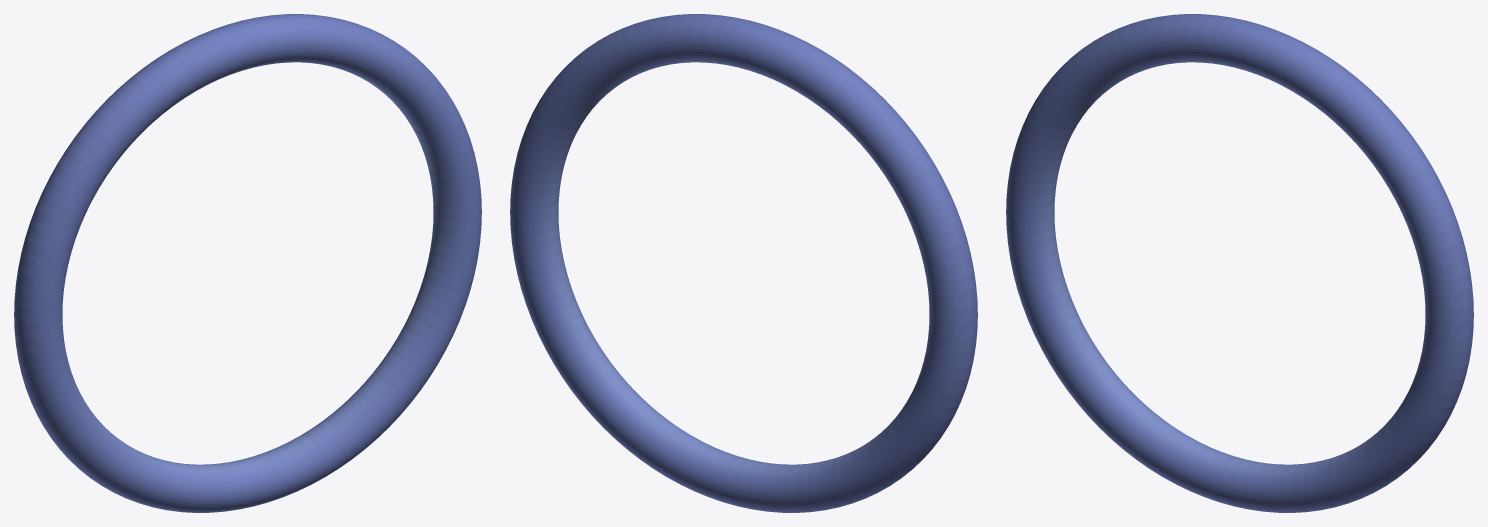
3 views of the same model, side by side, from view 1: azimuth 30°, elevation 25°; view 2: azimuth 150°, elevation 25°; view 3: azimuth 330°, elevation 25° (orthographic).
Parts seen in each view (by area): view 1: world; view 2: world; view 3: world.
Part boxes in pixels (x1,y1,x2,y2): world: (14,14,481,512); world: (510,14,977,512); world: (1006,14,1473,512).
Size of the model in its own units: 24.93 by 24.93 by 2.26.
